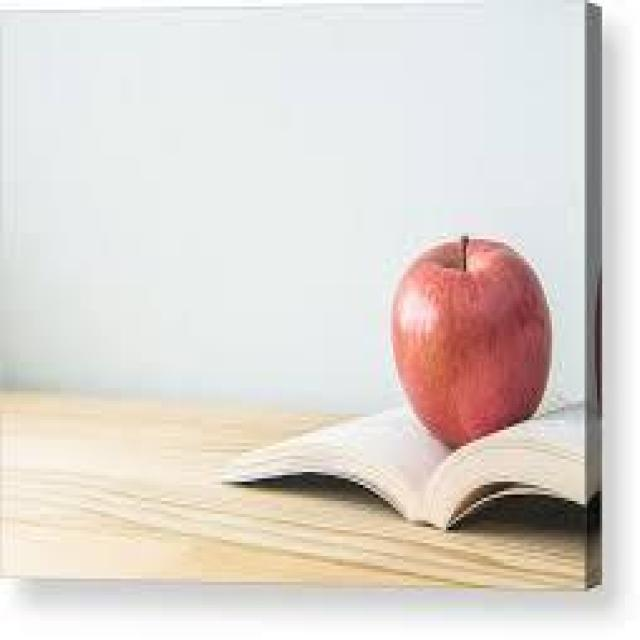maca: (388, 230, 552, 450)
